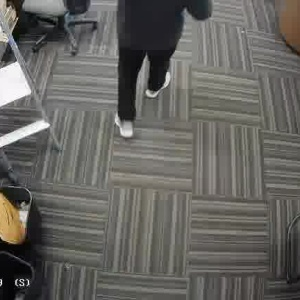person: (111, 0, 206, 135)
